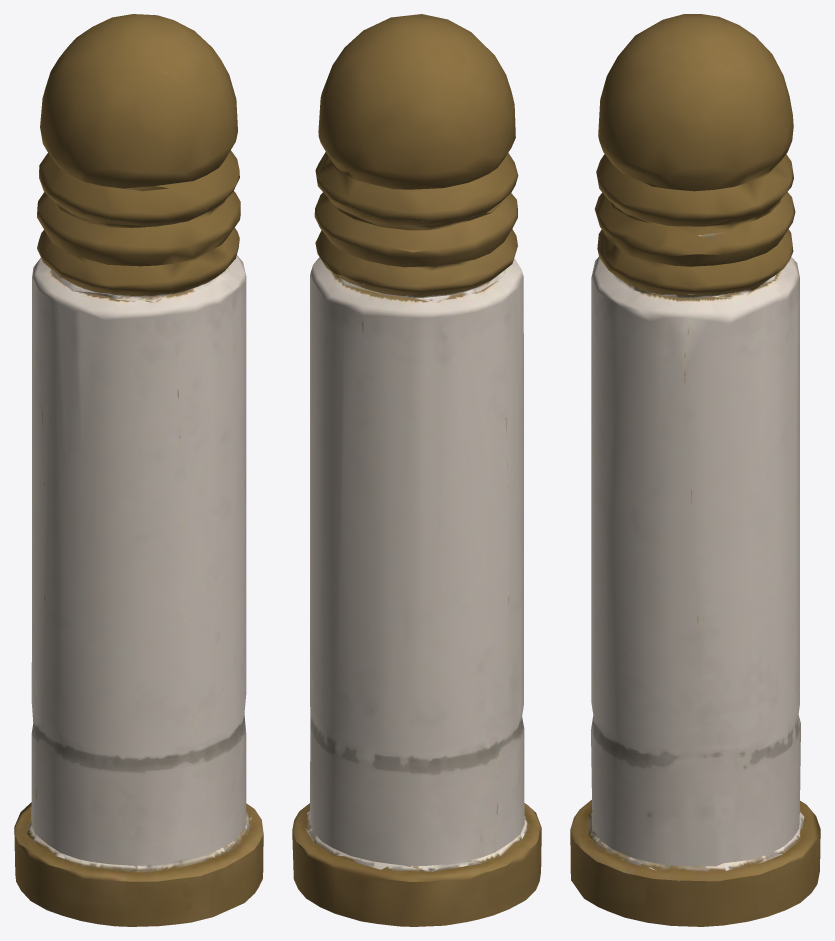
The model's file is bollard.glb.
3 views of the same model, side by side, from view 1: azimuth 30°, elevation 25°; view 2: azimuth 150°, elevation 25°; view 3: azimuth 270°, elevation 25° (orthographic).
Parts seen in each view (by area): view 1: body; view 2: body; view 3: body.
Part boxes in pixels (x1,y1,x2,y2): body: (14, 14, 263, 926); body: (292, 14, 541, 926); body: (570, 14, 820, 926).
Size of the model in its own units: 0.2396 by 0.8994 by 0.2398.
Materials: 1 (1 with a texture image).
